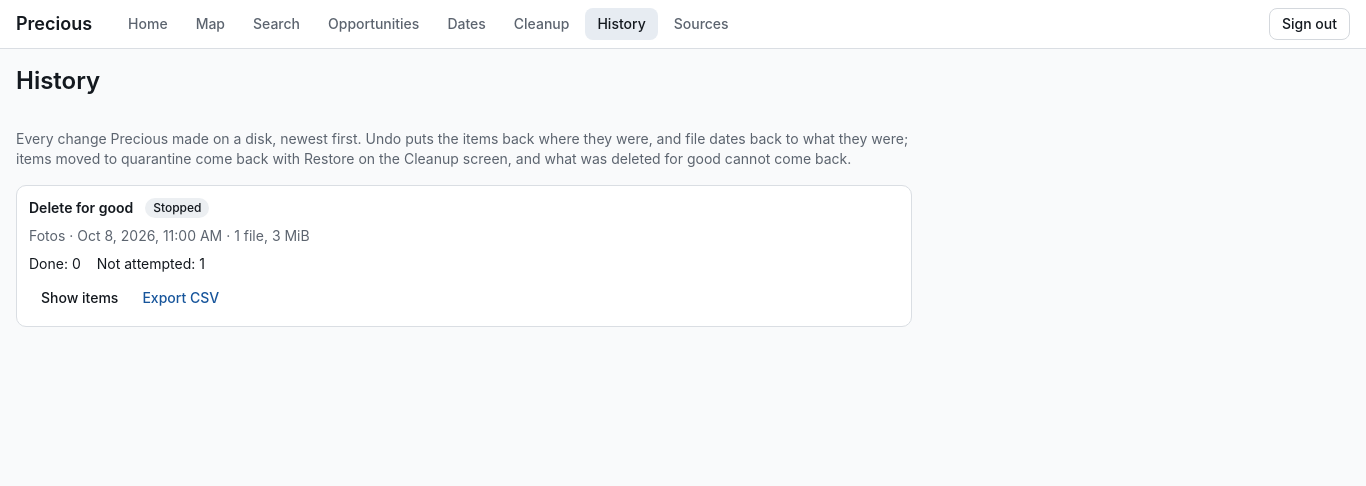
it: History › shows what changed on disk when a purge stopped at its comparison
Check: the element "Delete for good" is shown, box [16, 185, 912, 327]
Check: the list items read "Done: 0", "Not attempted: 1", in this order, box [29, 254, 81, 274]; [97, 254, 205, 274]
Click the button "Show items" at (80, 298), box [29, 282, 130, 314]
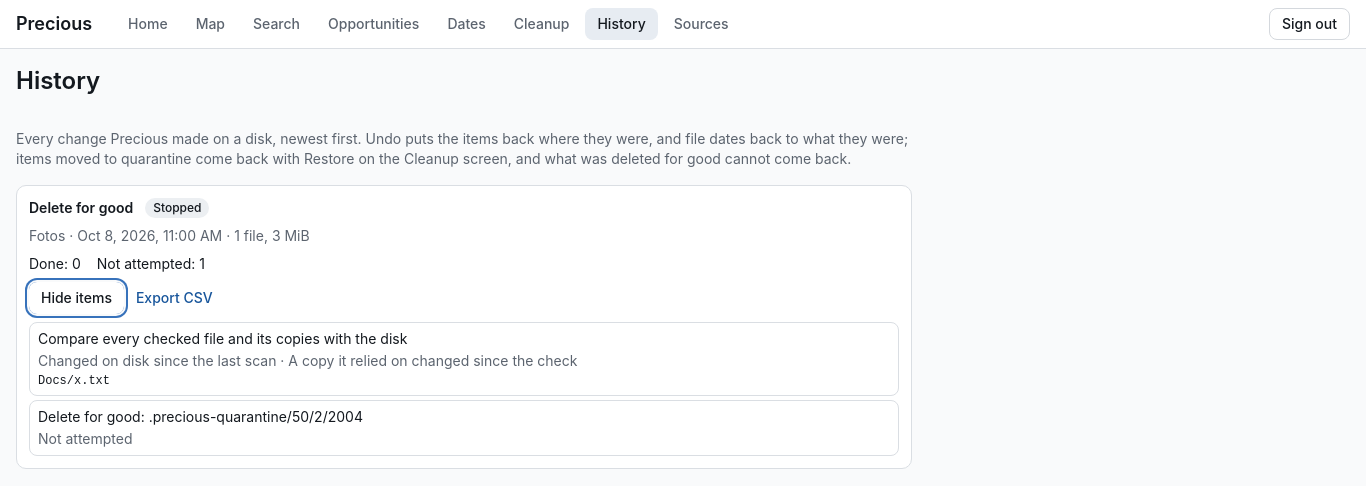
Check: the text "A copy it relied on changed since the check" is shown, box [38, 352, 578, 369]
Check: the text "Docs/x.txt" is shown, box [38, 374, 110, 388]
Check: the text "Delete for good: .precious-quarantine/50/2/2004" is shown, box [38, 408, 363, 425]
